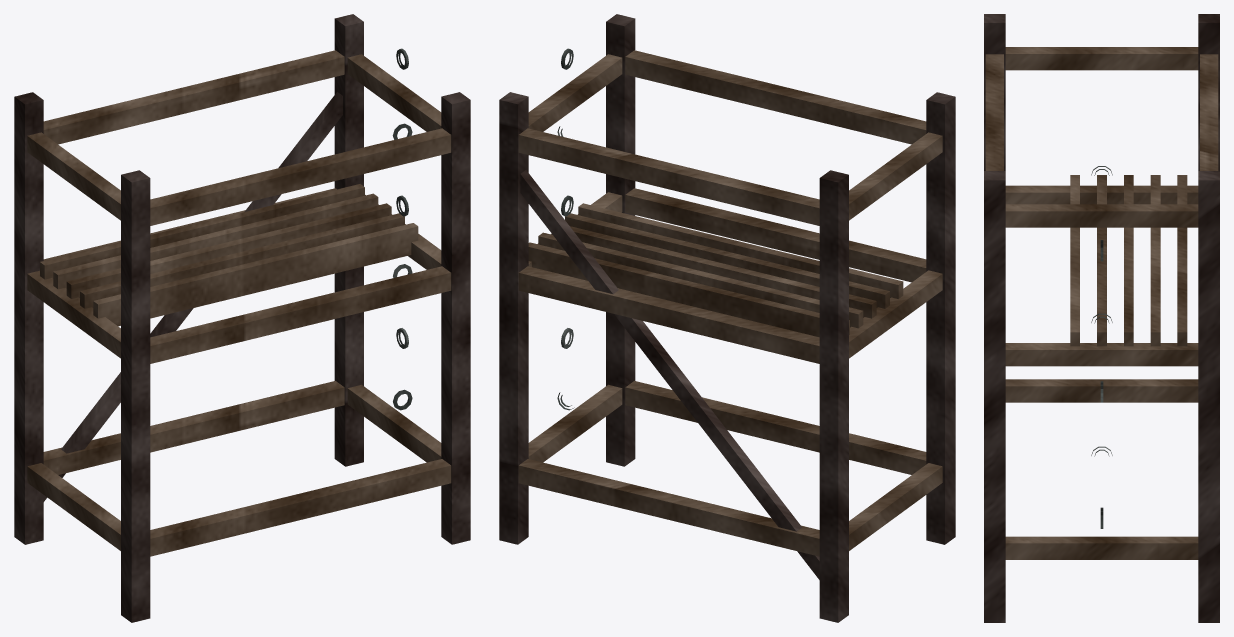
Rendered from 0434_scaffolding_09.glb.
3 renders of one model, left to right at view 1: azimuth 30°, elevation 25°; view 2: azimuth 150°, elevation 25°; view 3: azimuth 270°, elevation 25°, orthographic.
Parts seen in each view (by area): view 1: wood, wood_dark, iron; view 2: wood, wood_dark, iron; view 3: wood, wood_dark, iron.
Boxes of the visible parts, <box> form: wood: <box>27,50,451,556</box>; wood_dark: <box>14,14,470,622</box>; iron: <box>392,48,412,410</box>; wood: <box>518,50,942,556</box>; wood_dark: <box>499,14,955,622</box>; iron: <box>557,48,574,410</box>; wood: <box>985,47,1218,559</box>; wood_dark: <box>984,14,1219,622</box>; iron: <box>1091,166,1112,528</box>.
Size of the model in its own units: 2.39 by 3.02 by 1.43.
3 materials, 3 textured.
